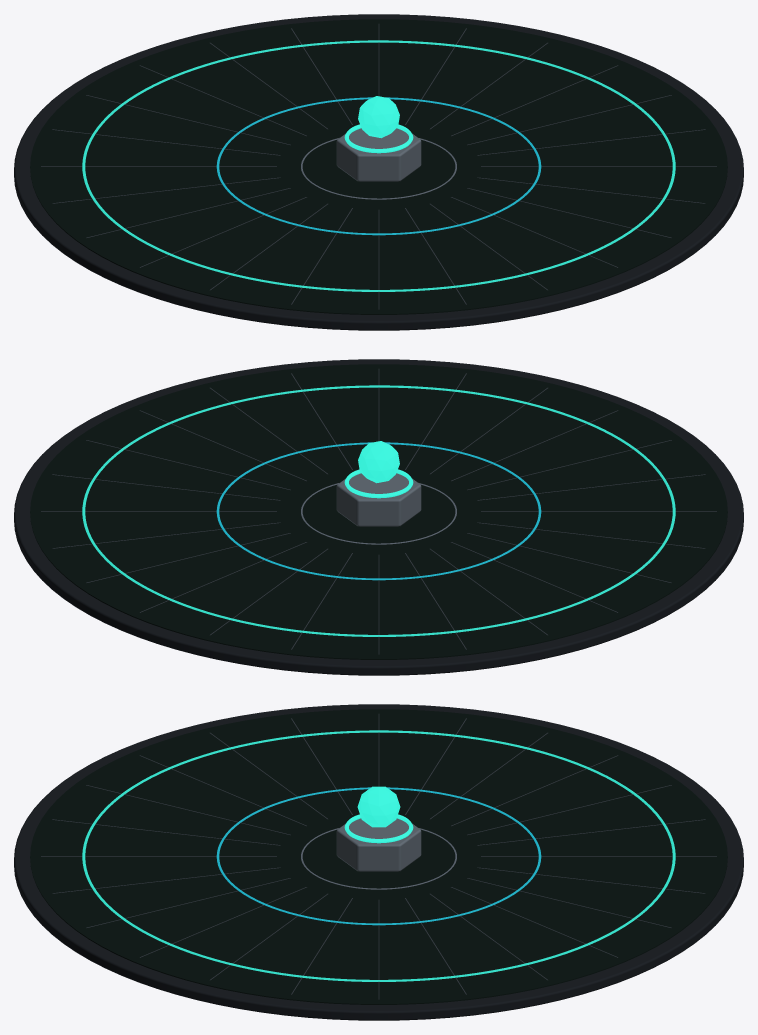
File: netmap.glb
The picture shows the model from 3 angles, top to bottom: view 1: azimuth 30°, elevation 25°; view 2: azimuth 150°, elevation 25°; view 3: azimuth 270°, elevation 25°; orthographic projection.
Parts seen in each view (by area): view 1: Net_Ground, Net_Plate, Net_Grid, Net_RingWan, Net_Hub, Net_RingLan, Net_Core, Net_Collar; view 2: Net_Ground, Net_Plate, Net_Grid, Net_RingWan, Net_Hub, Net_RingLan, Net_Core, Net_Collar; view 3: Net_Ground, Net_Plate, Net_Grid, Net_RingWan, Net_Hub, Net_RingLan, Net_Core, Net_Collar.
Part boxes in pixels (<box>): Net_Ground: <box>30,19,727,314</box>; Net_Plate: <box>14,14,743,330</box>; Net_Grid: <box>41,24,716,309</box>; Net_RingWan: <box>82,40,675,291</box>; Net_Hub: <box>336,128,421,181</box>; Net_RingLan: <box>216,97,541,235</box>; Net_Core: <box>358,96,399,138</box>; Net_Collar: <box>344,124,413,153</box>; Net_Ground: <box>30,364,727,659</box>; Net_Plate: <box>14,359,743,675</box>; Net_Grid: <box>41,369,716,654</box>; Net_RingWan: <box>82,385,675,636</box>; Net_Hub: <box>336,473,421,526</box>; Net_RingLan: <box>216,442,541,580</box>; Net_Core: <box>358,441,399,483</box>; Net_Collar: <box>344,469,413,498</box>; Net_Ground: <box>30,709,727,1004</box>; Net_Plate: <box>14,704,743,1020</box>; Net_Grid: <box>41,714,716,999</box>; Net_RingWan: <box>82,730,675,981</box>; Net_Hub: <box>336,818,421,871</box>; Net_RingLan: <box>216,787,541,925</box>; Net_Core: <box>357,786,400,827</box>; Net_Collar: <box>344,814,413,843</box>.
Bounding box in the file's own units: 6.8 × 0.82 × 6.8.
